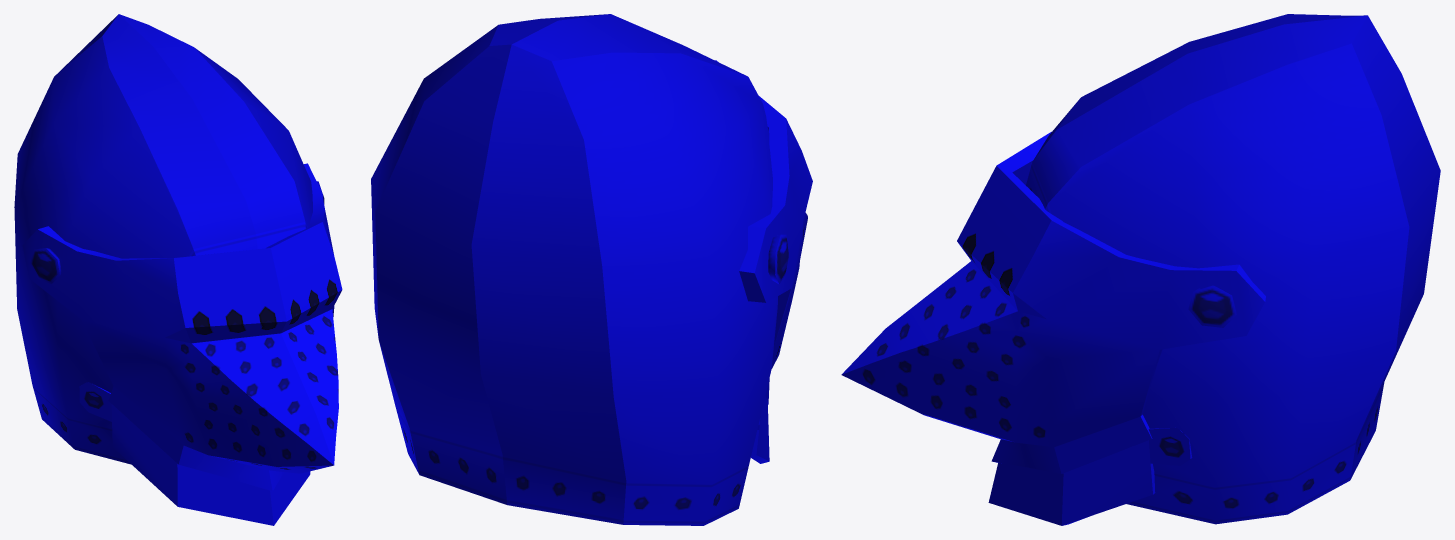
File: BascinetHoundskull_F.fbx
The picture shows the model from 3 angles, left to right: view 1: azimuth 30°, elevation 25°; view 2: azimuth 150°, elevation 25°; view 3: azimuth 270°, elevation 25°; orthographic projection. The views are drawn at different scales.
Visible parts, largest first — view 1: BascinetHounskull_F, BascinetHounskull_Visor_F; view 2: BascinetHounskull_F, BascinetHounskull_Visor_F; view 3: BascinetHounskull_F, BascinetHounskull_Visor_F.
Part boxes in pixels (<box>): BascinetHounskull_F: <box>14,14,312,525</box>; BascinetHounskull_Visor_F: <box>22,163,342,491</box>; BascinetHounskull_F: <box>371,14,778,525</box>; BascinetHounskull_Visor_F: <box>715,60,812,404</box>; BascinetHounskull_F: <box>988,14,1440,525</box>; BascinetHounskull_Visor_F: <box>841,131,1265,473</box>.
Size of the model in its own units: 28.53 by 38.36 by 42.62.
